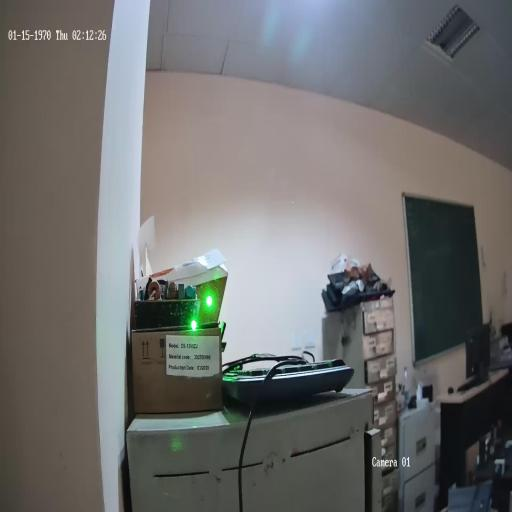laser: (204, 292, 214, 311)
